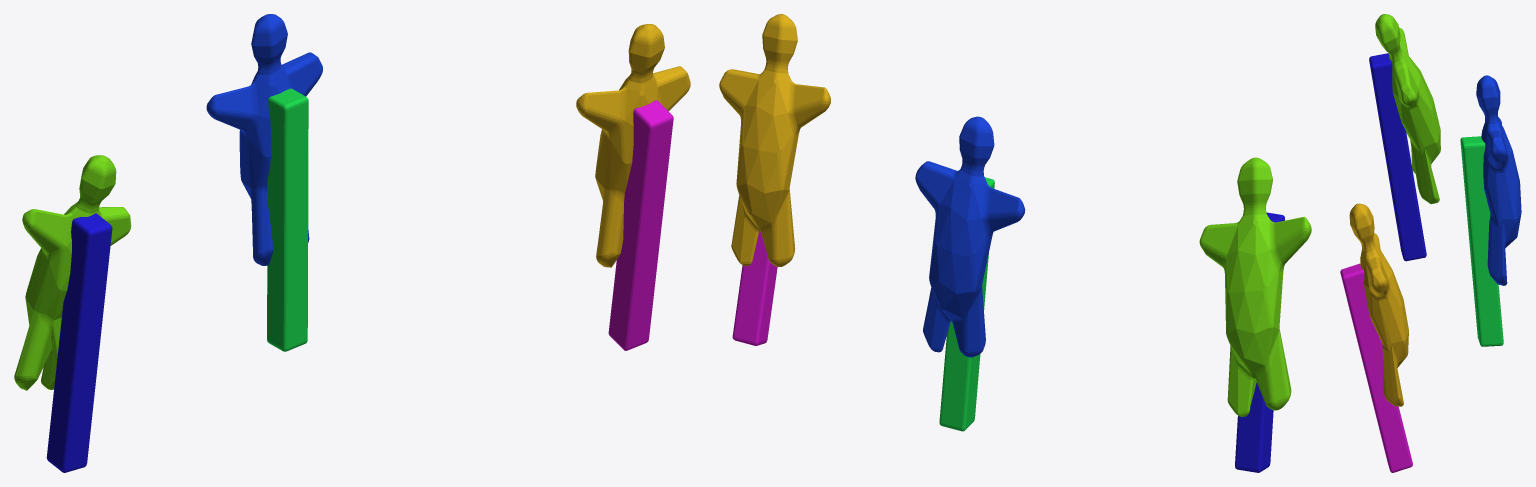
The model's file is Structure_Tower_Knight_Human_02_Destroyed_debris_cells_training_dolls.fbx.
3 views of the same model, side by side, from view 1: azimuth 30°, elevation 25°; view 2: azimuth 150°, elevation 25°; view 3: azimuth 270°, elevation 25° (orthographic). The views are drawn at different scales.
Visible parts, largest first — view 1: Structure_Tower_Knight_Human_02.010, Structure_Tower_Knight_Human_02.011, Structure_Tower_Knight_Human_02.012; view 2: Structure_Tower_Knight_Human_02.012, Structure_Tower_Knight_Human_02.010, Structure_Tower_Knight_Human_02.011; view 3: Structure_Tower_Knight_Human_02.010, Structure_Tower_Knight_Human_02.011, Structure_Tower_Knight_Human_02.012.
Boxes of the visible parts, x1=… form: Structure_Tower_Knight_Human_02.010: x1=14, y1=155, x2=131, y2=472; Structure_Tower_Knight_Human_02.011: x1=206, y1=14, x2=322, y2=351; Structure_Tower_Knight_Human_02.012: x1=576, y1=24, x2=690, y2=350; Structure_Tower_Knight_Human_02.012: x1=719, y1=14, x2=830, y2=345; Structure_Tower_Knight_Human_02.010: x1=1199, y1=157, x2=1311, y2=472; Structure_Tower_Knight_Human_02.011: x1=915, y1=116, x2=1025, y2=431; Structure_Tower_Knight_Human_02.010: x1=1369, y1=14, x2=1440, y2=261; Structure_Tower_Knight_Human_02.011: x1=1460, y1=75, x2=1521, y2=346; Structure_Tower_Knight_Human_02.012: x1=1340, y1=203, x2=1412, y2=472.
Bounding box in the file's own units: 263 × 139 × 81.94.
